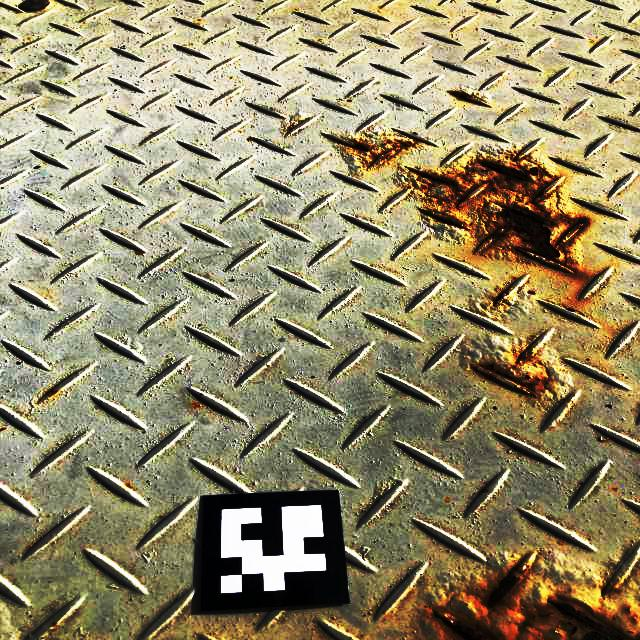Corrosion: (405, 154, 589, 276), (426, 564, 640, 640), (470, 345, 554, 400), (346, 132, 416, 174), (443, 90, 474, 102), (489, 288, 505, 303), (40, 0, 49, 9), (49, 389, 55, 397)
